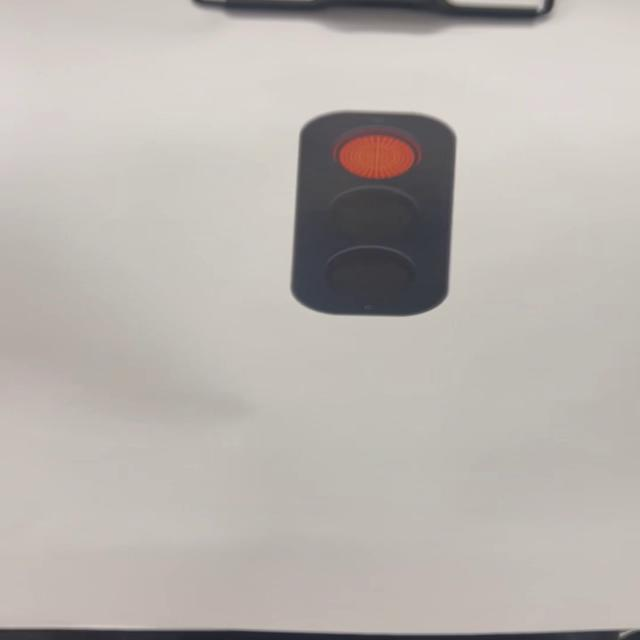red: (293, 108, 456, 318)
